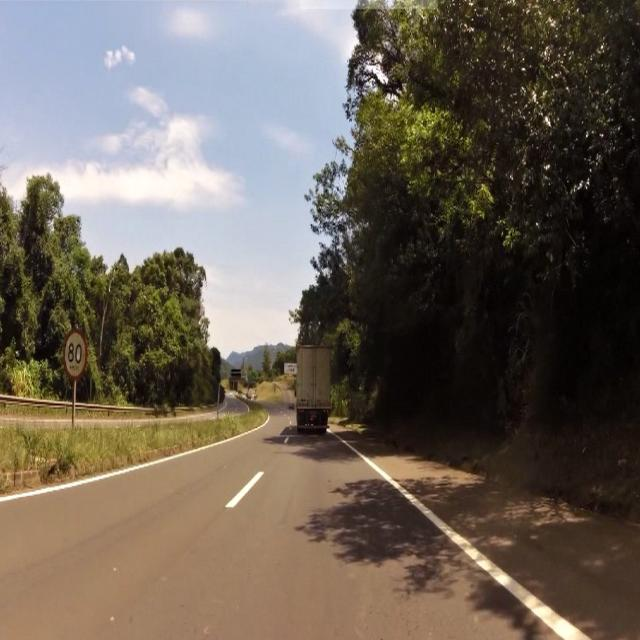R-19: (61, 326, 89, 380)
